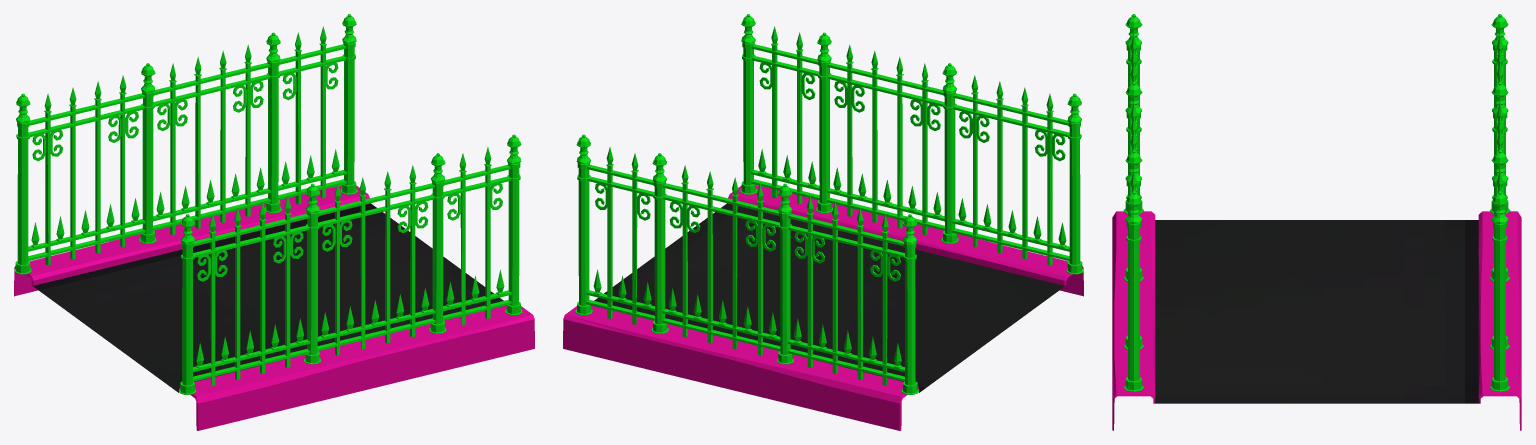
File: City_Fence10.fbx
The picture shows the model from 3 angles, left to right: view 1: azimuth 30°, elevation 25°; view 2: azimuth 150°, elevation 25°; view 3: azimuth 270°, elevation 25°; orthographic projection. The views are drawn at different scales.
Parts seen in each view (by area): view 1: SM_City_Fence_04_Divider_02.mo; view 2: SM_City_Fence_04_Divider_02.mo; view 3: SM_City_Fence_04_Divider_02.mo.
Part boxes in pixels (x1,y1,x2,y2): SM_City_Fence_04_Divider_02.mo: (14,14,534,430); SM_City_Fence_04_Divider_02.mo: (563,14,1083,430); SM_City_Fence_04_Divider_02.mo: (1112,14,1521,430).
Bounding box in the file's own units: 383 × 222 × 352.
